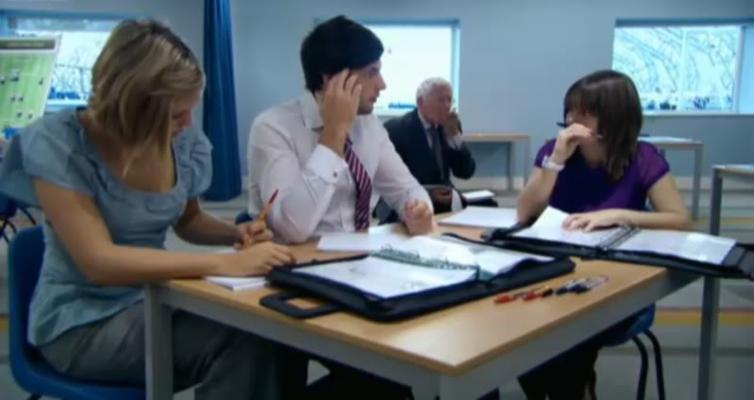person: (17, 20, 308, 400)
